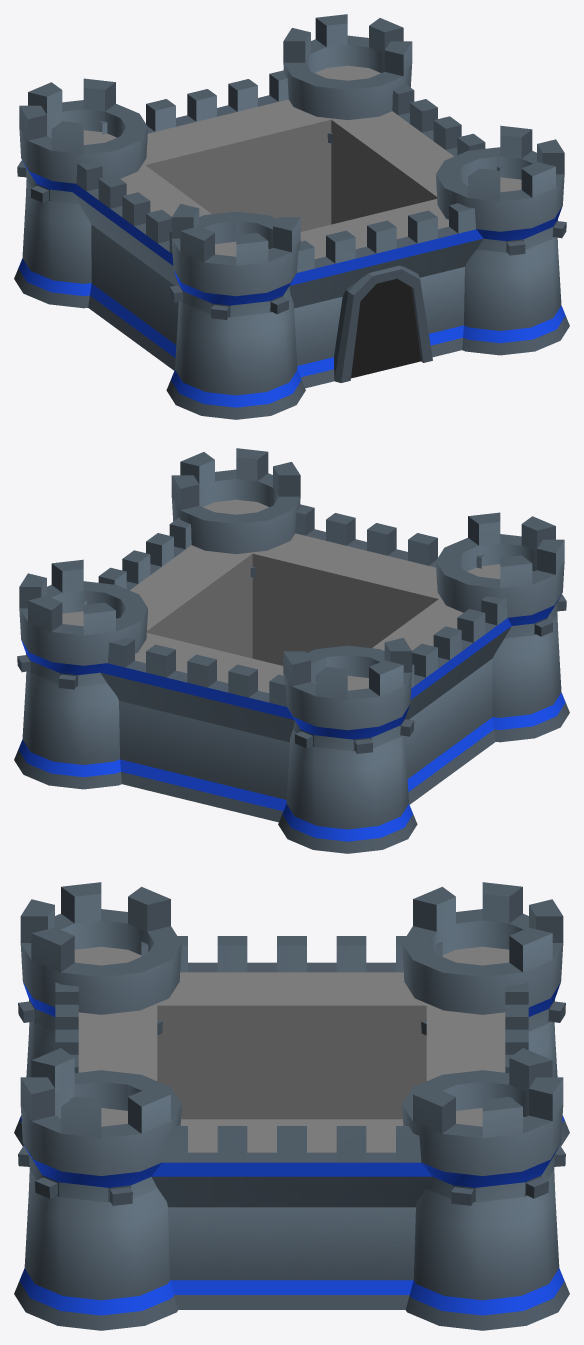
Rendered from castle_C_friendly.fbx.
The picture shows the model from 3 angles, top to bottom: view 1: azimuth 30°, elevation 25°; view 2: azimuth 150°, elevation 25°; view 3: azimuth 270°, elevation 25°; orthographic projection. The views are drawn at different scales.
Parts seen in each view (by area): view 1: castle_C_friendly; view 2: castle_C_friendly; view 3: castle_C_friendly.
Boxes of the visible parts, x1=… form: castle_C_friendly: x1=14, y1=14, x2=569, y2=419; castle_C_friendly: x1=14, y1=448, x2=569, y2=853; castle_C_friendly: x1=14, y1=882, x2=569, y2=1330.
Bounding box in the file's own units: 12.29 × 5.28 × 12.29.
